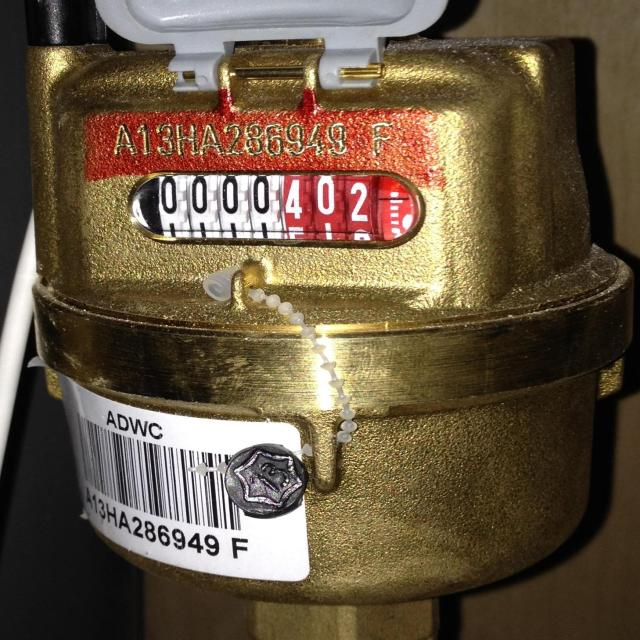gaz_meter: (34, 52, 496, 309)
indication: (143, 170, 413, 239)
